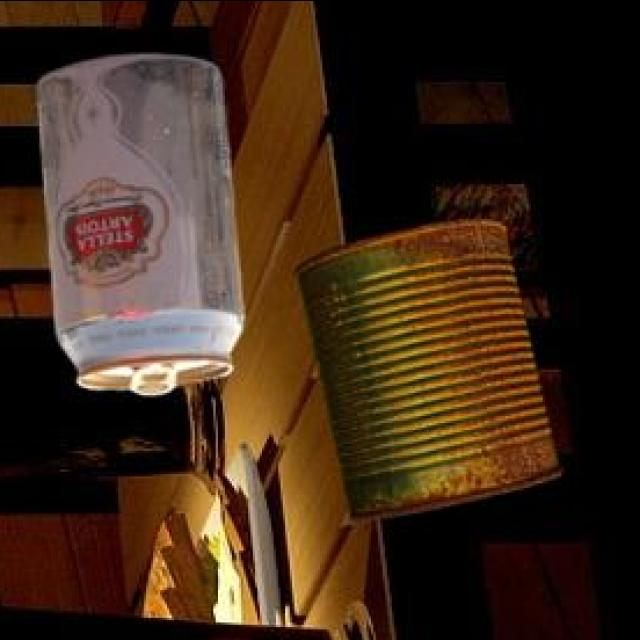logam: (291, 224, 560, 523), (34, 57, 240, 398)
